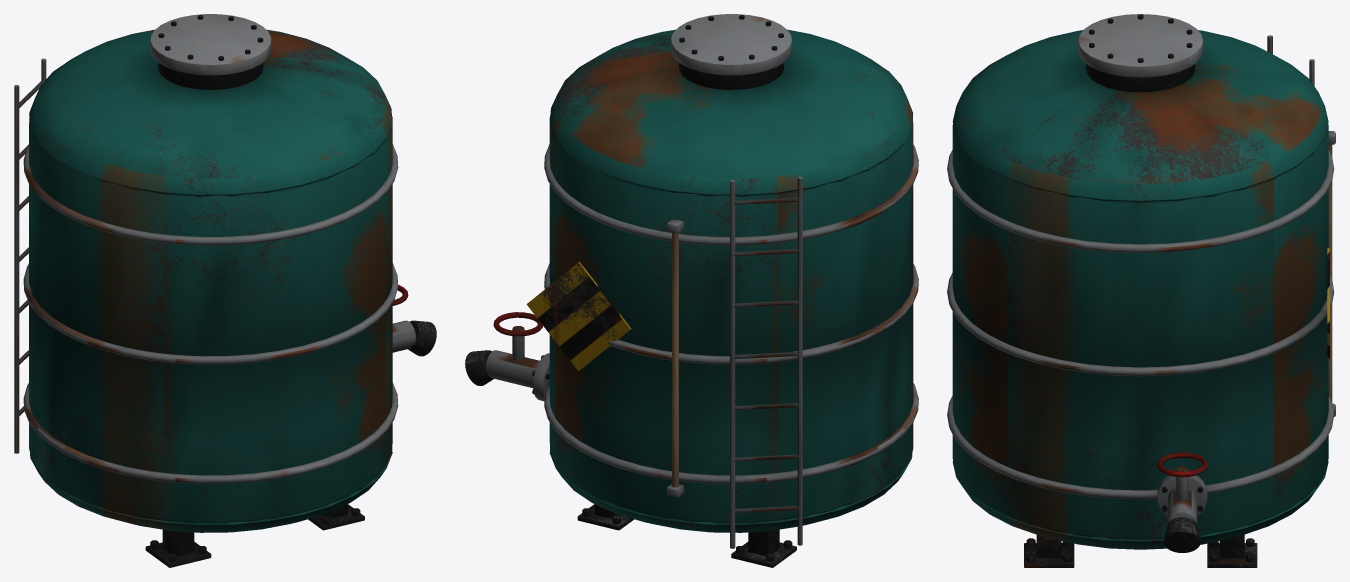
Rendered from spill_tank.gltf.
3 views of the same model, side by side, from view 1: azimuth 30°, elevation 25°; view 2: azimuth 150°, elevation 25°; view 3: azimuth 270°, elevation 25° (orthographic). The views are drawn at different scales.
Visible parts, largest first — view 1: spill_tank; view 2: spill_tank; view 3: spill_tank.
Boxes of the visible parts, bbox=[...] form: spill_tank: bbox=[14, 14, 436, 567]; spill_tank: bbox=[465, 14, 918, 567]; spill_tank: bbox=[947, 14, 1335, 567].
Bounding box in the file's own units: 2.31 × 2.55 × 1.86.
Materials: 6 (6 with a texture image).
